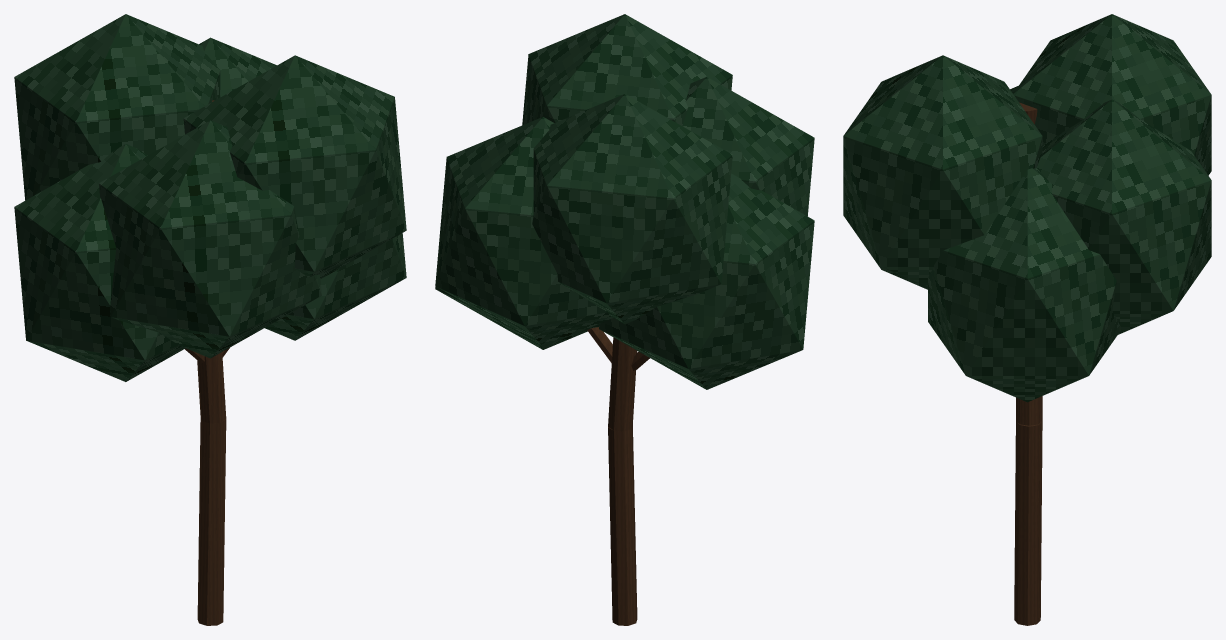
The model's file is level_tree_broadleaf.glb.
The picture shows the model from 3 angles, left to right: view 1: azimuth 30°, elevation 25°; view 2: azimuth 150°, elevation 25°; view 3: azimuth 270°, elevation 25°; orthographic projection. The views are drawn at different scales.
Visible parts, largest first — view 1: level_tree_broadleaf; view 2: level_tree_broadleaf; view 3: level_tree_broadleaf.
Part boxes in pixels (left/top/right/bottom): level_tree_broadleaf: left=14, top=14, right=406, bottom=625; level_tree_broadleaf: left=435, top=14, right=814, bottom=625; level_tree_broadleaf: left=843, top=14, right=1211, bottom=625.
Bounding box in the file's own units: 4.79 × 7.28 × 4.15.
Materials: 2 (2 with a texture image).
